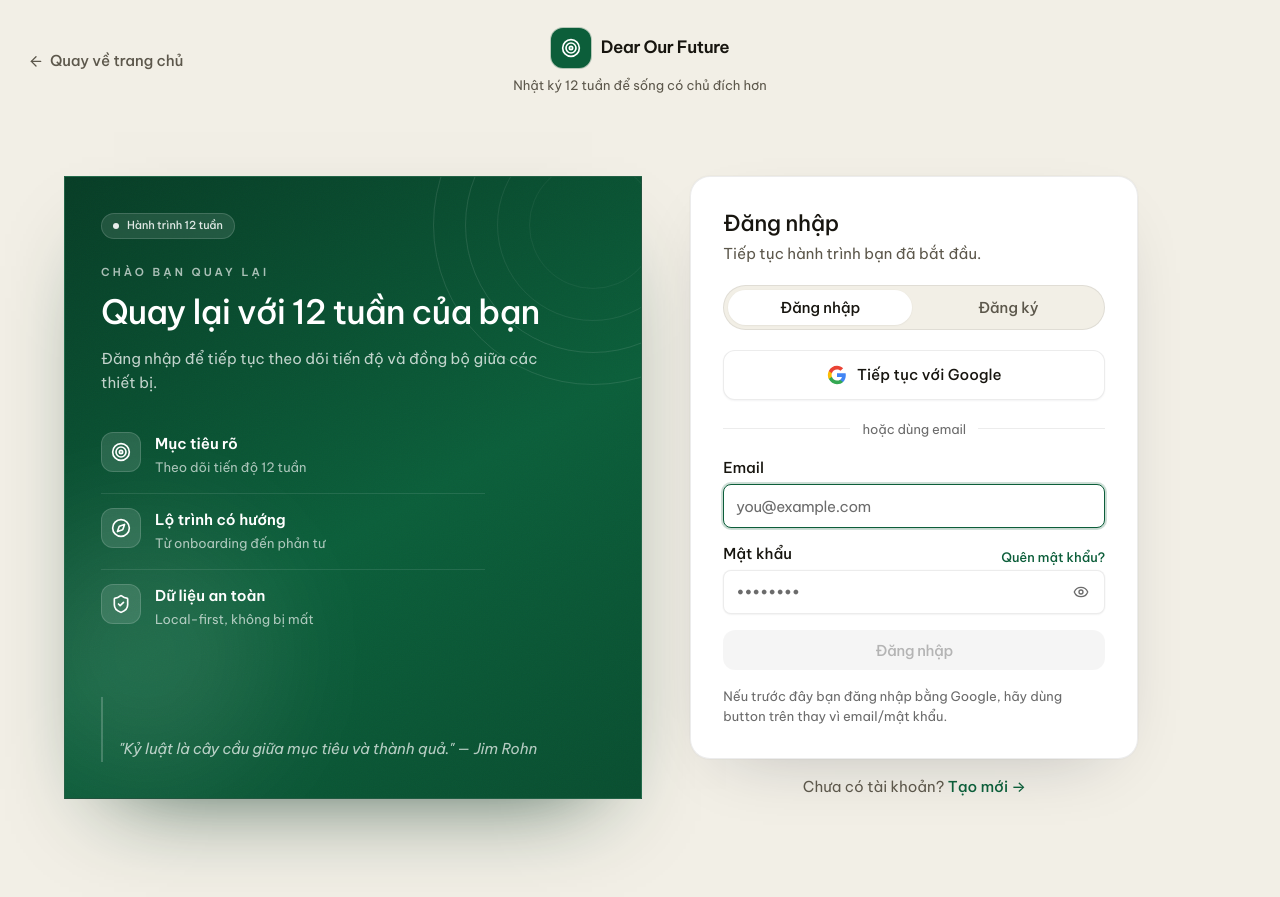
Test case: LoginPage › shows throttling feedback in reset-password card
The width and height of the screenshot is (1280, 897).
Click the button "Quên mật khẩu?" at [1053, 557], box [1001,548,1105,567]
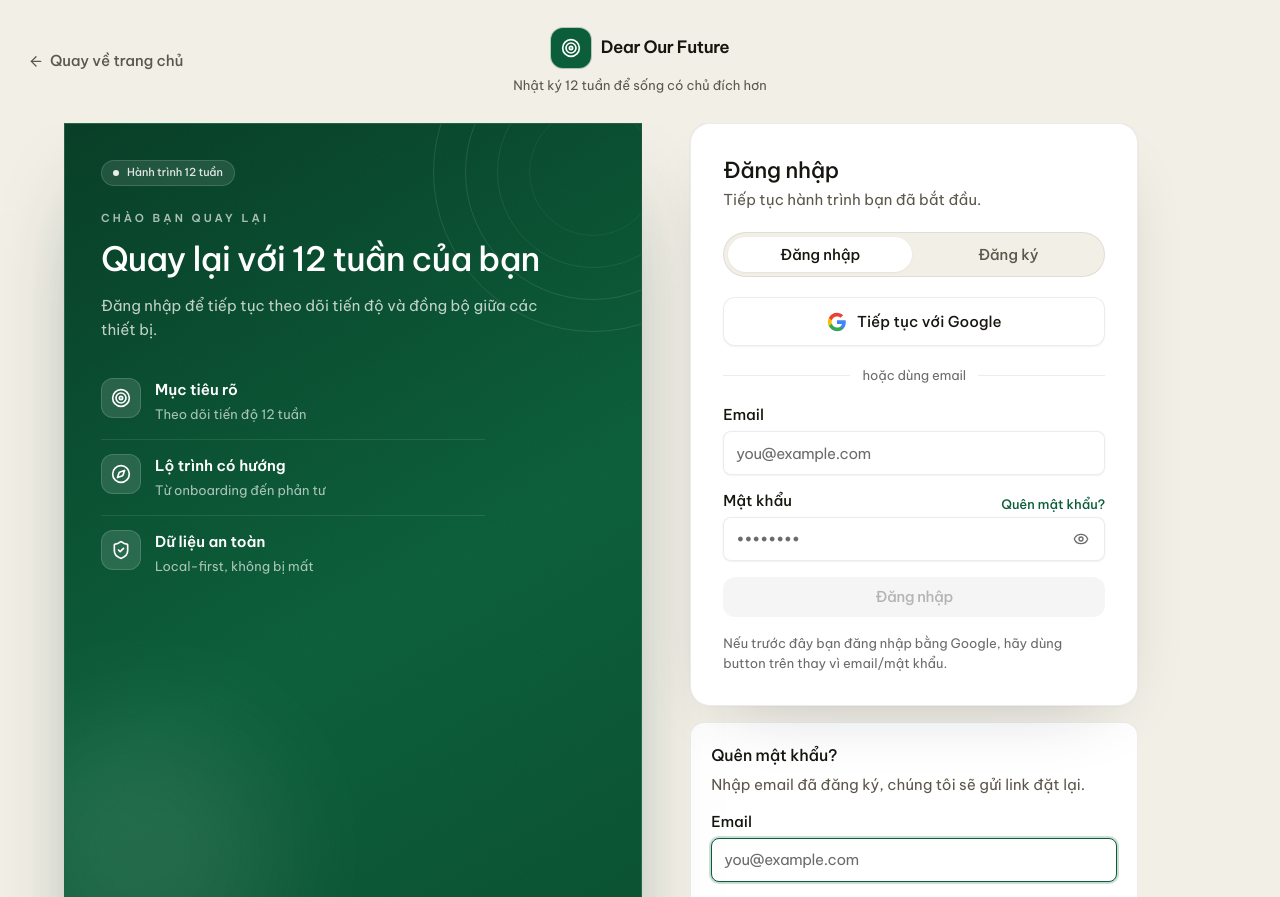
Check: the field with id "reset-email" is shown
Type "busy@example.test" into the field with id "reset-email" at [914, 860], box [711,838,1117,882]
(page scrolled)
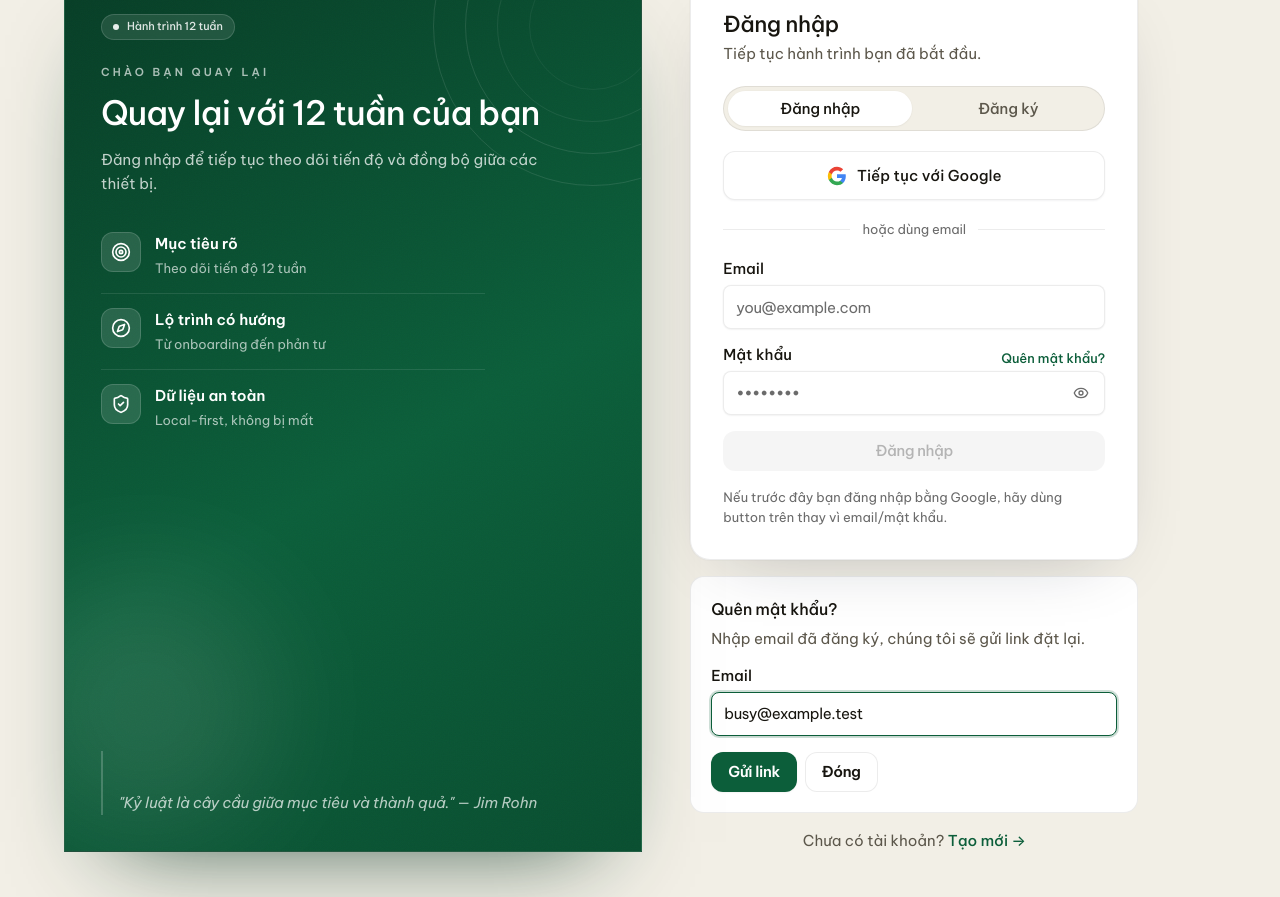
Check: the button "Gửi link" is shown
Click the button "Gửi link" at [754, 772], box [711,752,797,792]
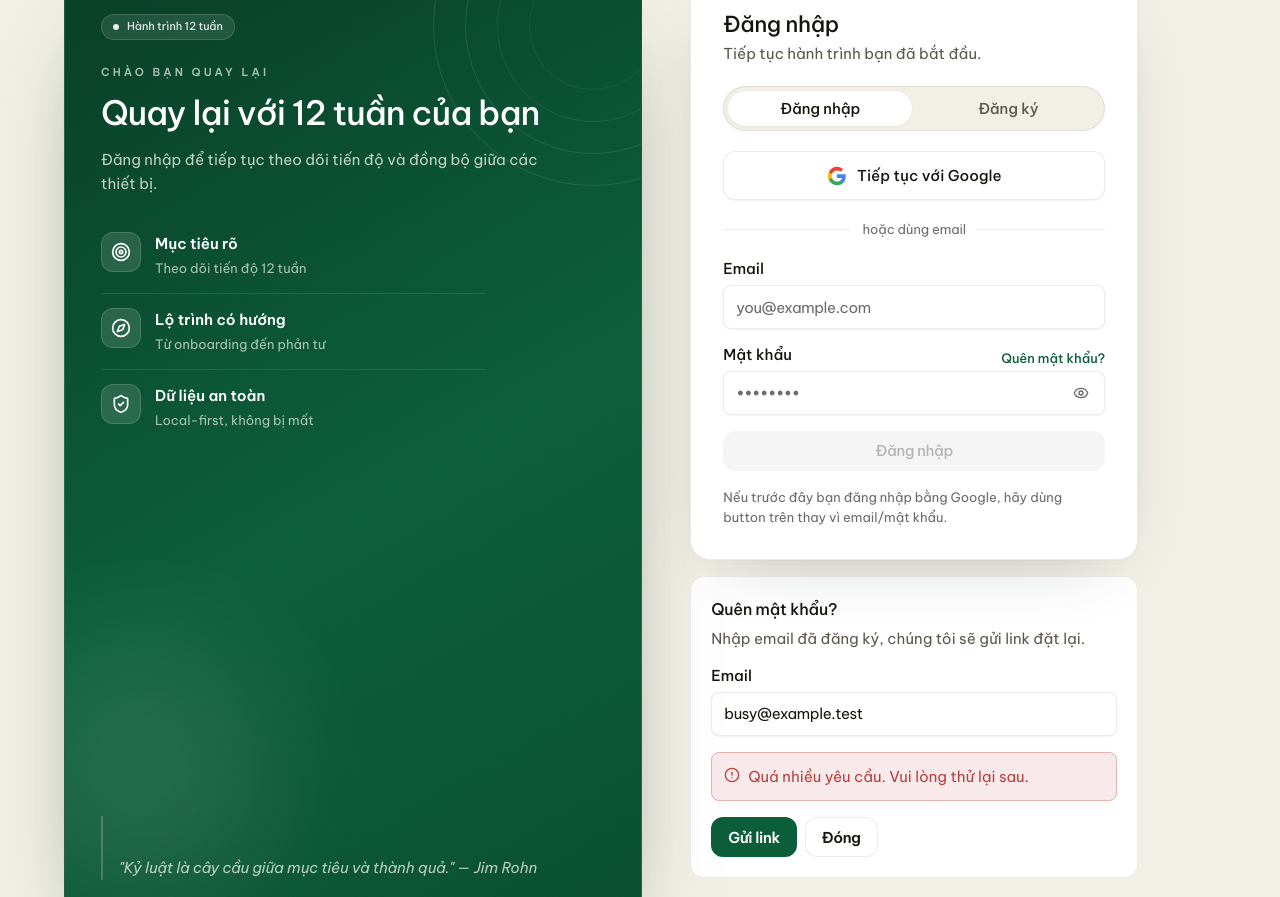
Check: the message reads "Quá nhiều yêu cầu. Vui lòng thử lại sau.", box [748,767,1029,786]
